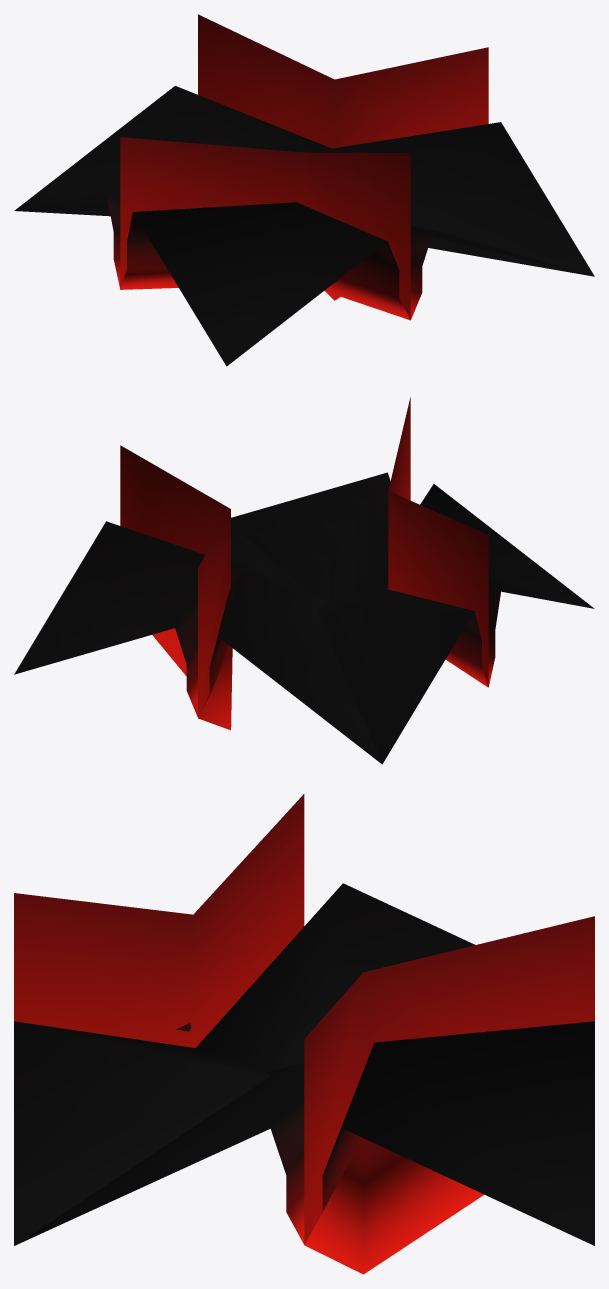
The picture shows the model from 3 angles, top to bottom: view 1: azimuth 30°, elevation 25°; view 2: azimuth 150°, elevation 25°; view 3: azimuth 270°, elevation 25°; orthographic projection. The views are drawn at different scales.
Visible parts, largest first — view 1: 9264; view 2: 9264; view 3: 9264.
Part boxes in pixels (x1,y1,x2,y2): 9264: [14, 14, 594, 366]; 9264: [14, 397, 594, 764]; 9264: [14, 794, 594, 1274].
Size of the model in its own units: 1.28 by 0.8439 by 1.28.
